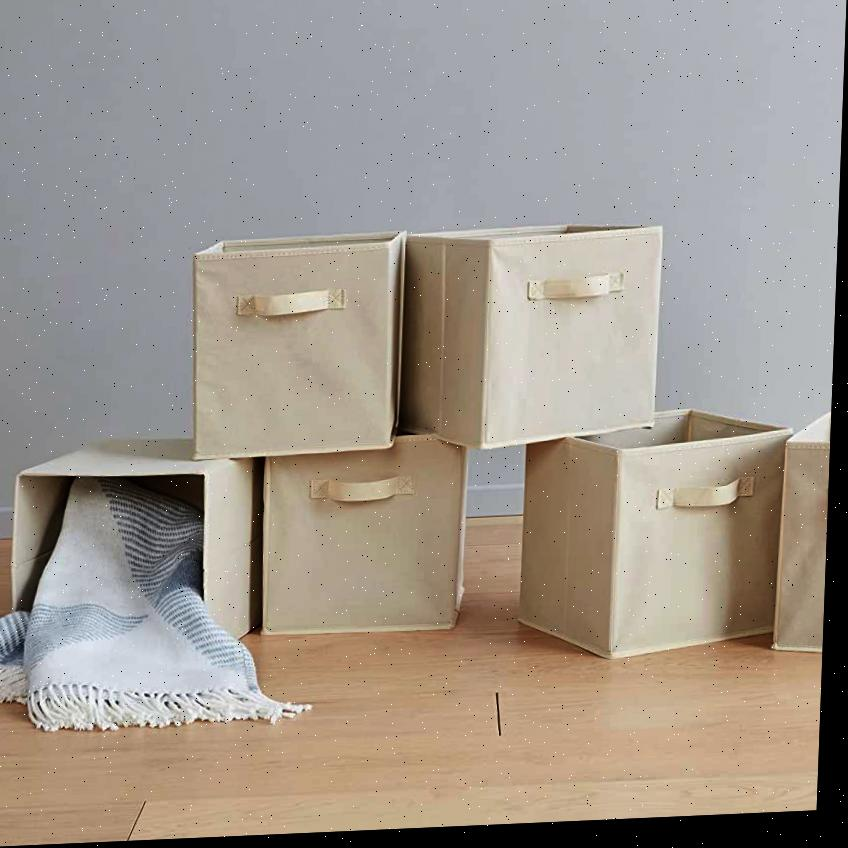cube: (513, 410, 794, 670), (408, 225, 676, 453), (180, 228, 410, 469), (263, 434, 474, 651)
